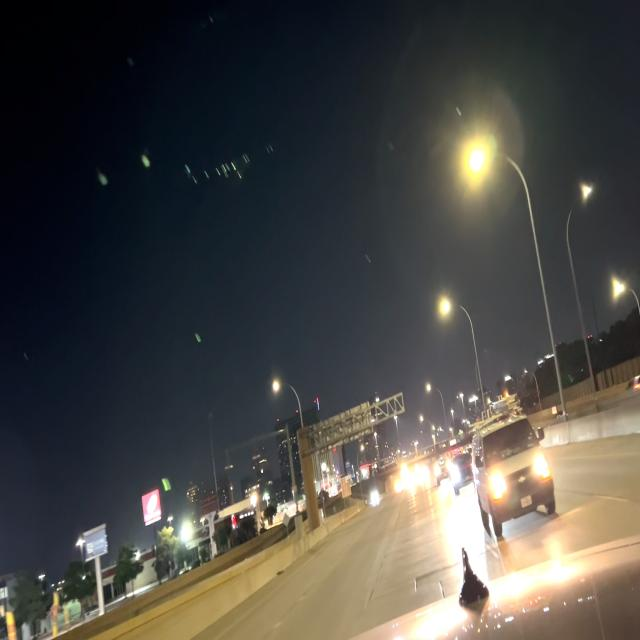back-of-sign: (312, 399, 375, 455)
